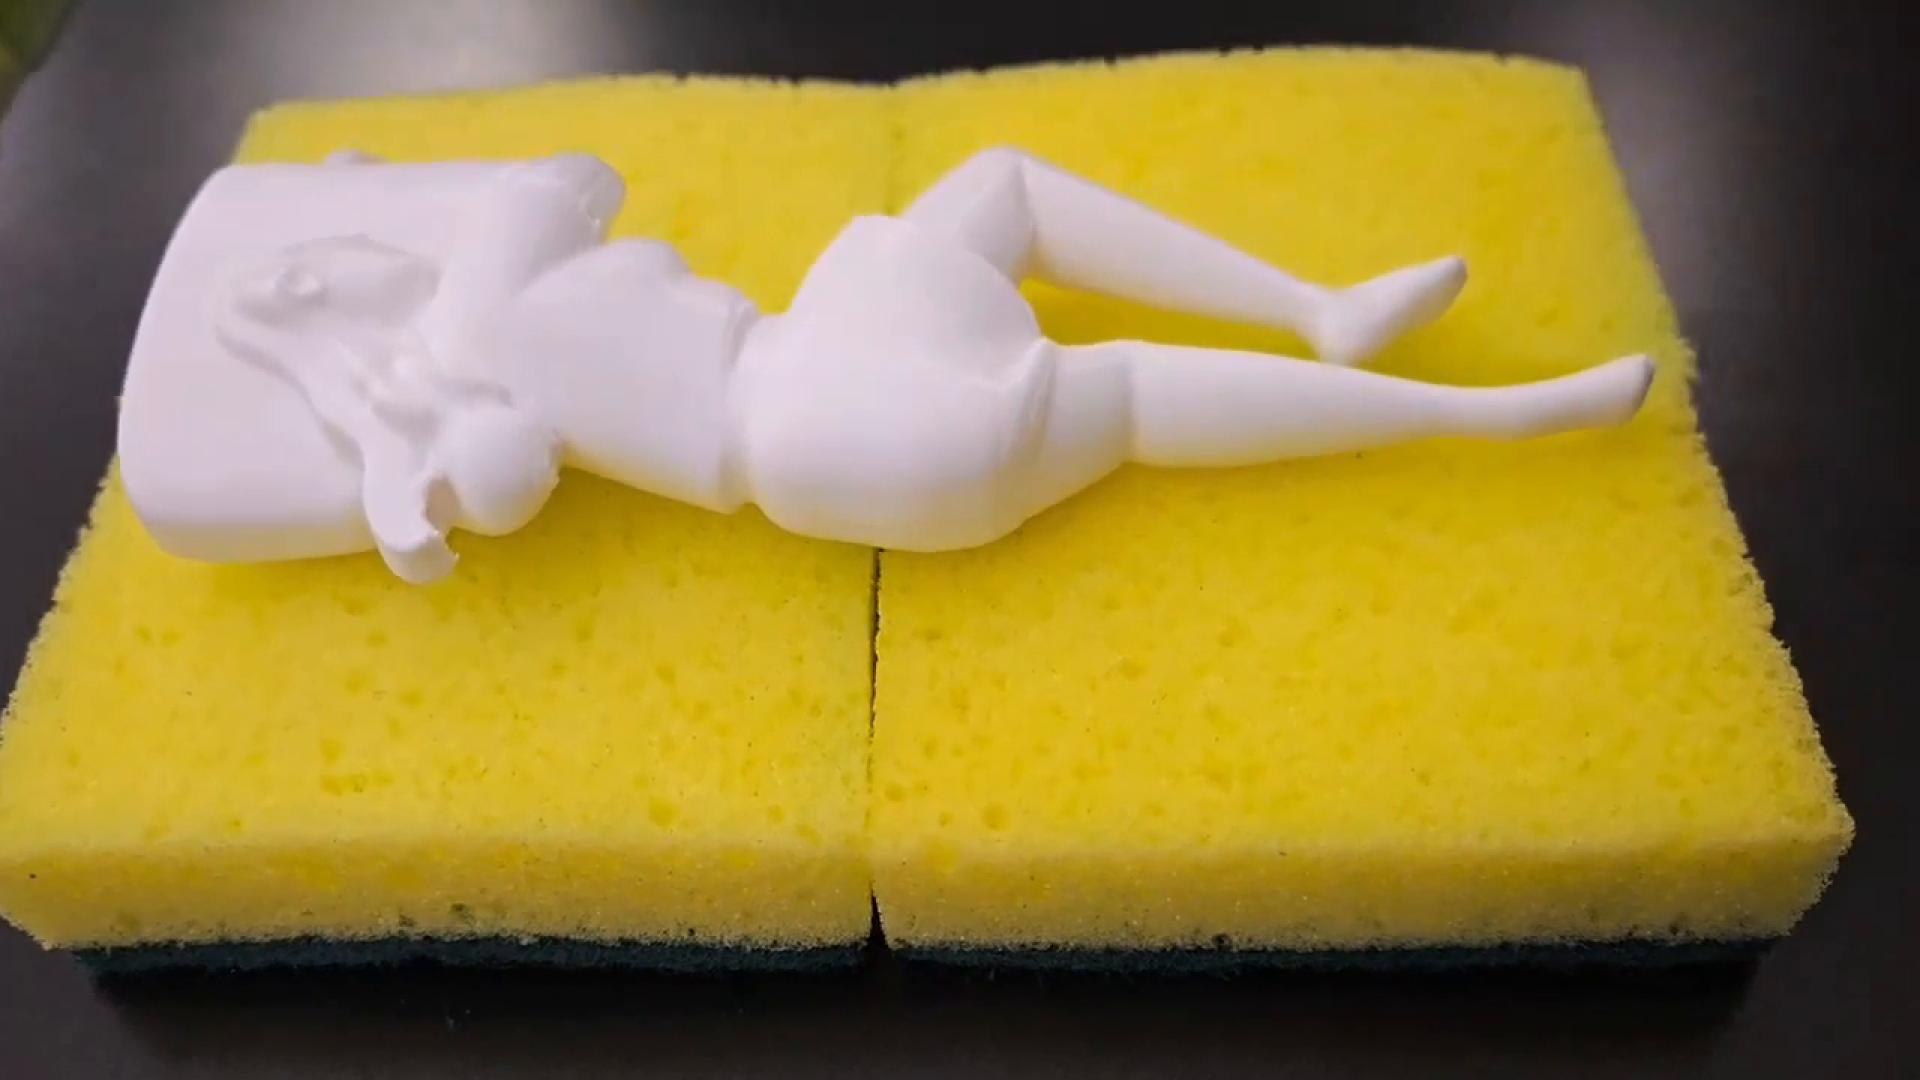Good-style: (119, 150, 1668, 591)
